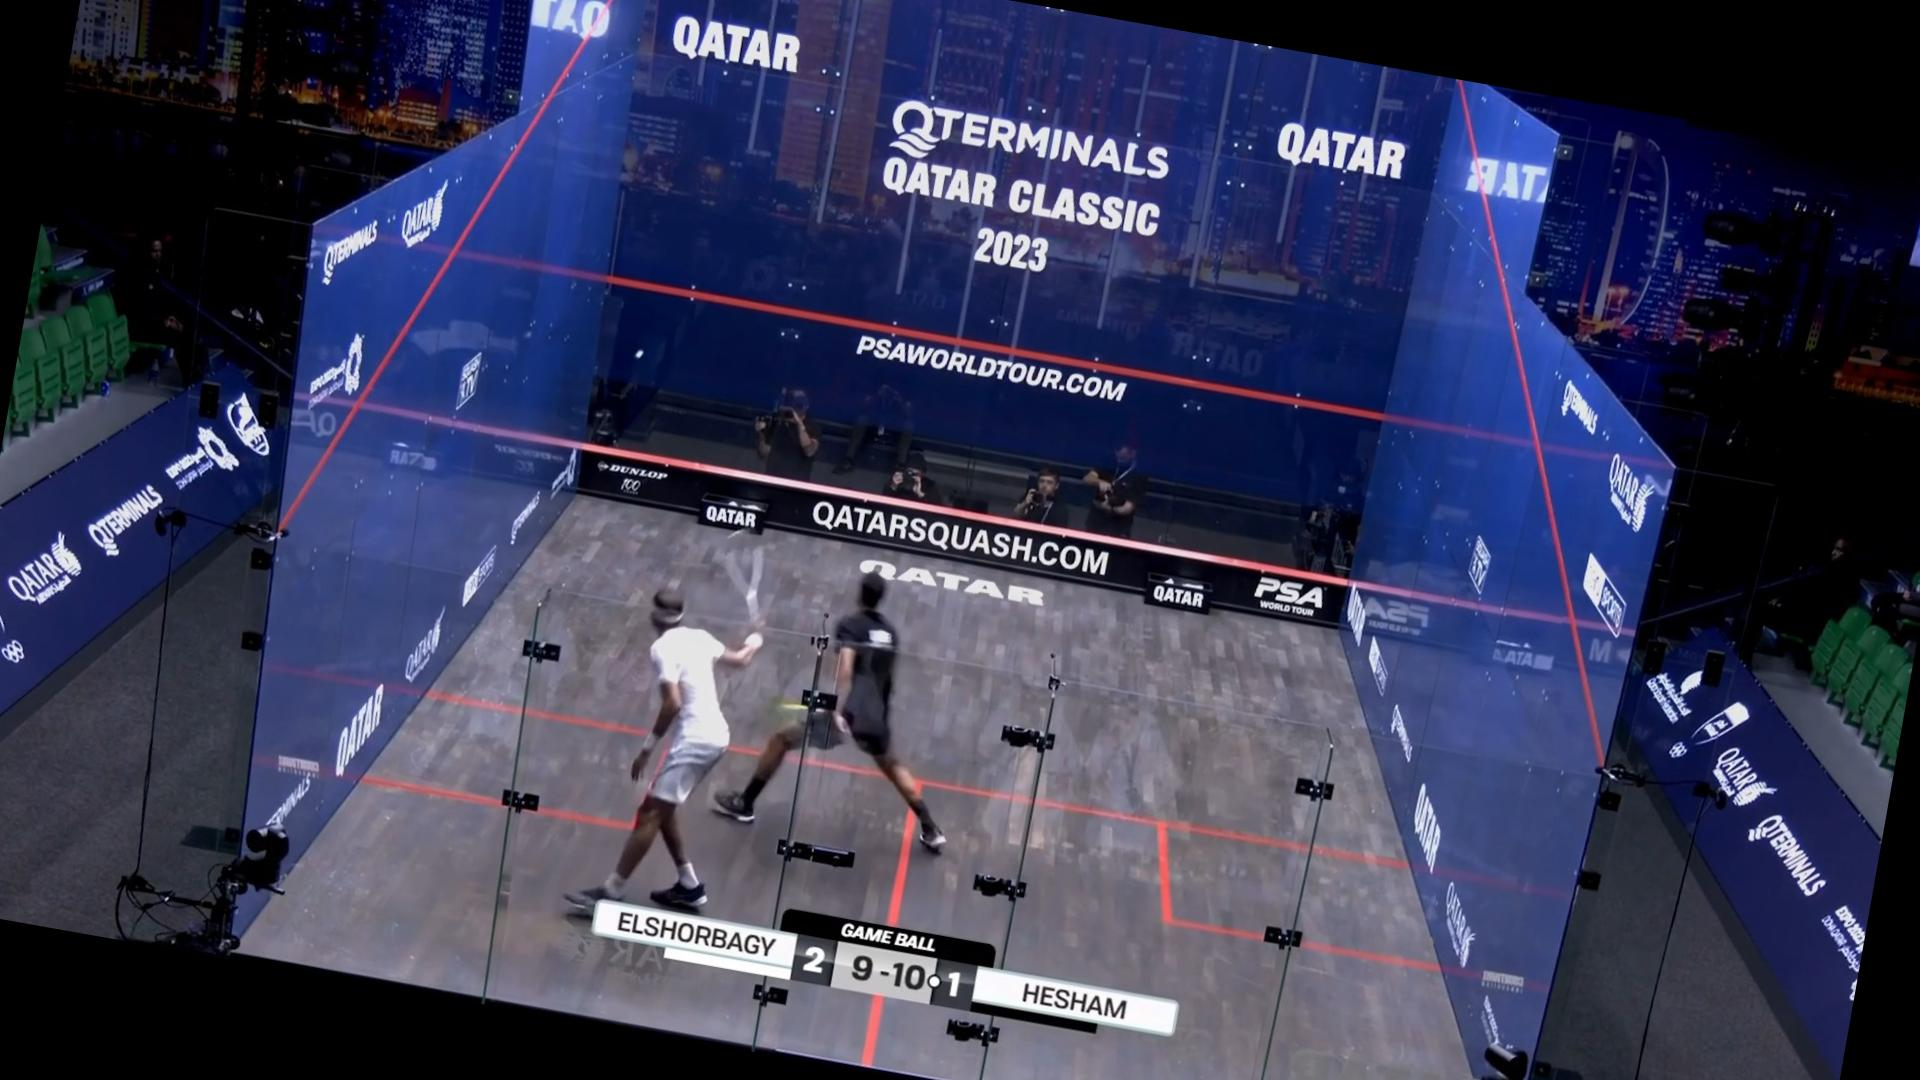Squash-Ball: (620, 335, 655, 376)
